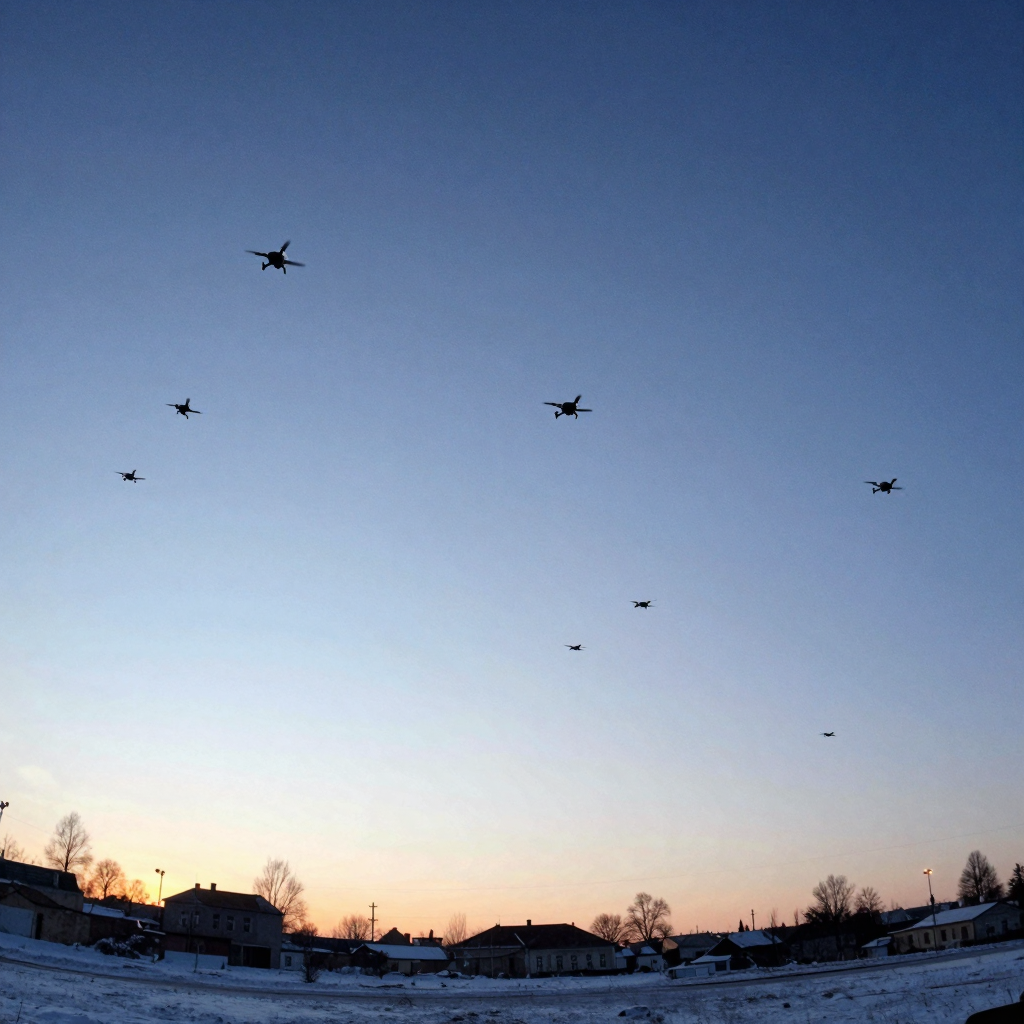drone: (244, 240, 306, 275), (543, 395, 592, 420), (165, 398, 202, 419), (864, 478, 904, 495), (114, 469, 146, 483), (630, 600, 657, 610), (564, 644, 587, 651), (819, 732, 836, 737)
